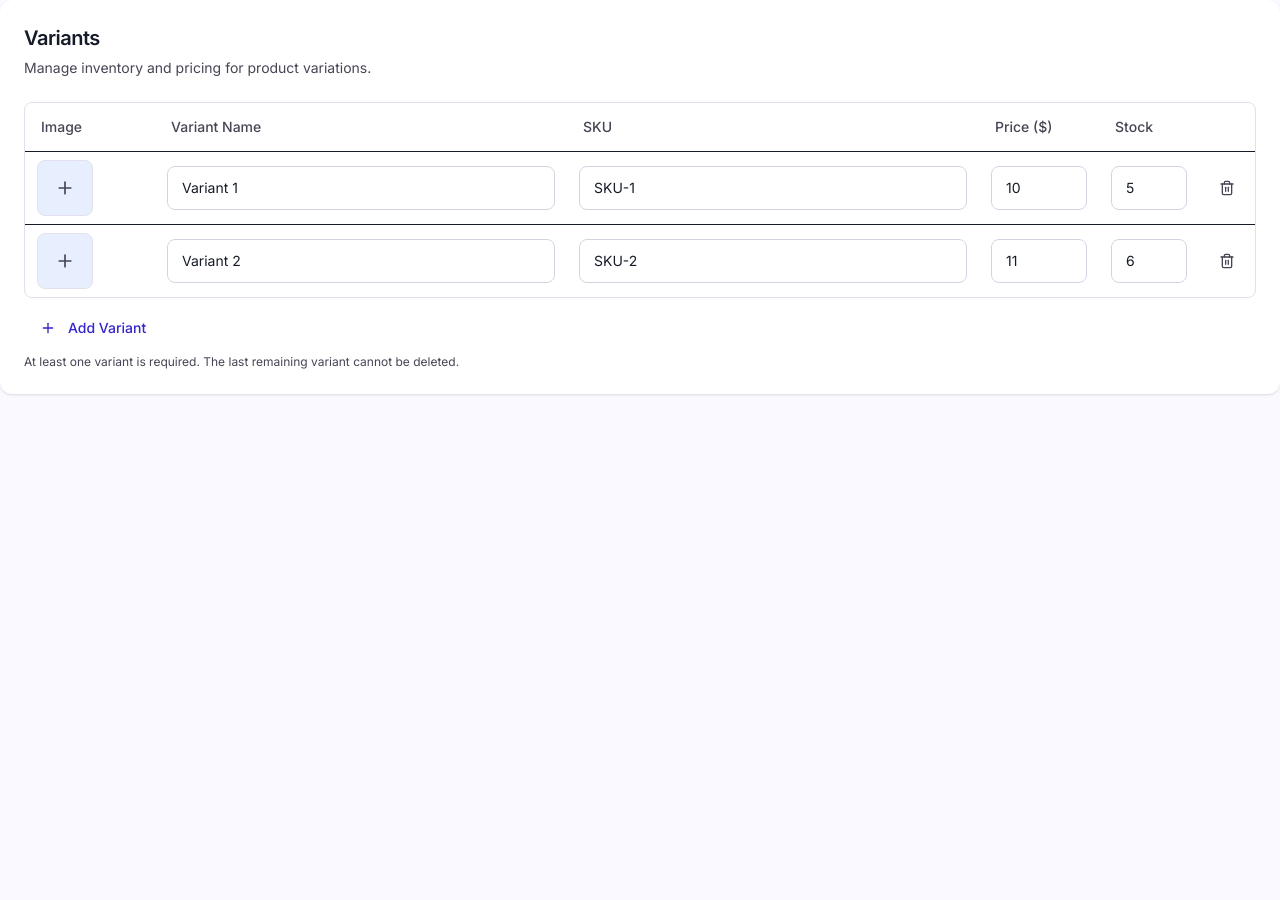
Test: VariantsSection › cancels deletion when cancel is clicked in confirmation dialog
The width and height of the screenshot is (1280, 900).
Click the 1st button named "delete".
click(1227, 188)  # box [1211,172,1243,204]
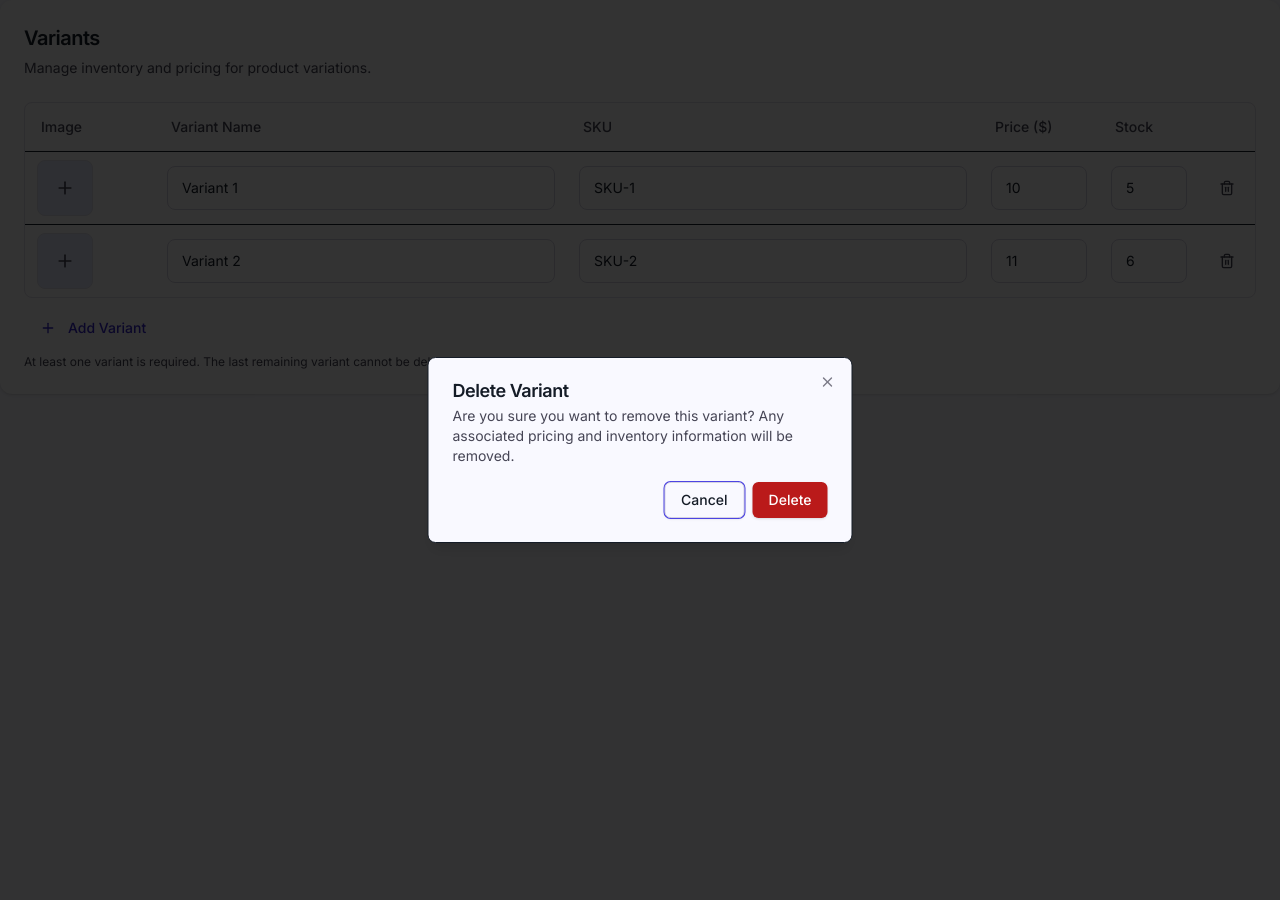
Result: the dialog is shown at [428,357,852,543]
Click the button "Cancel".
click(704, 500)  # box [664,482,745,518]
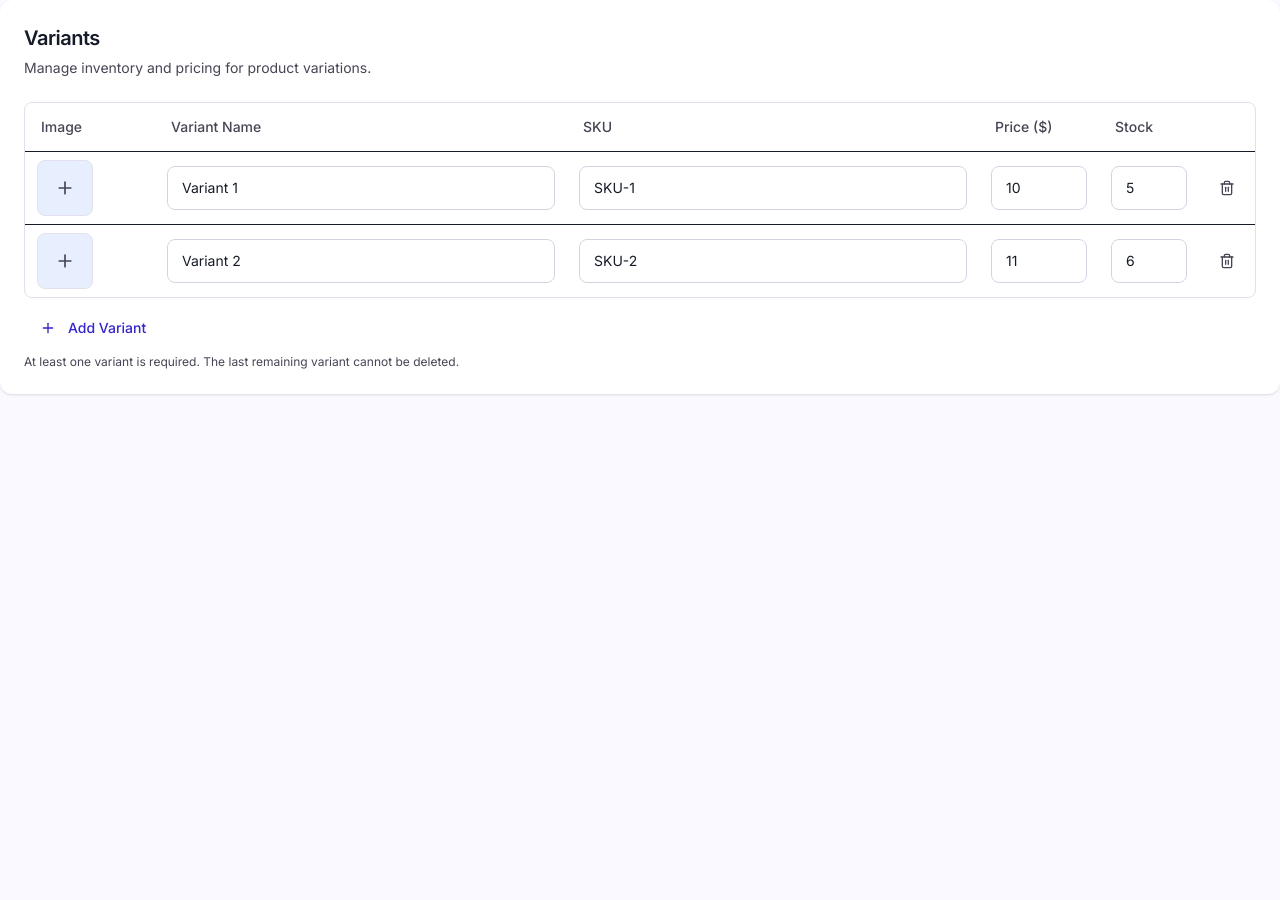
Result: the dialog is gone
Result: the number of buttons named "delete" is 2 at [1211,172,1243,204]; [1211,244,1243,276]
